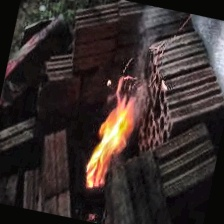fire: (70, 68, 156, 203)
